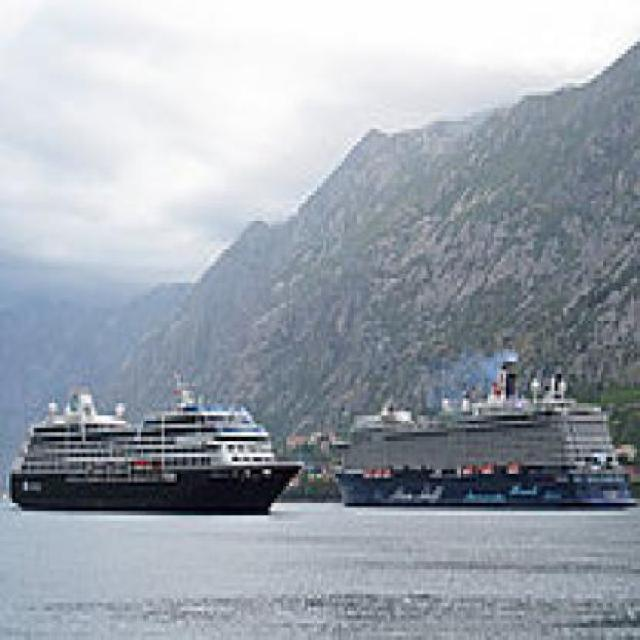cruise: (333, 384, 638, 529), (4, 387, 309, 521)
